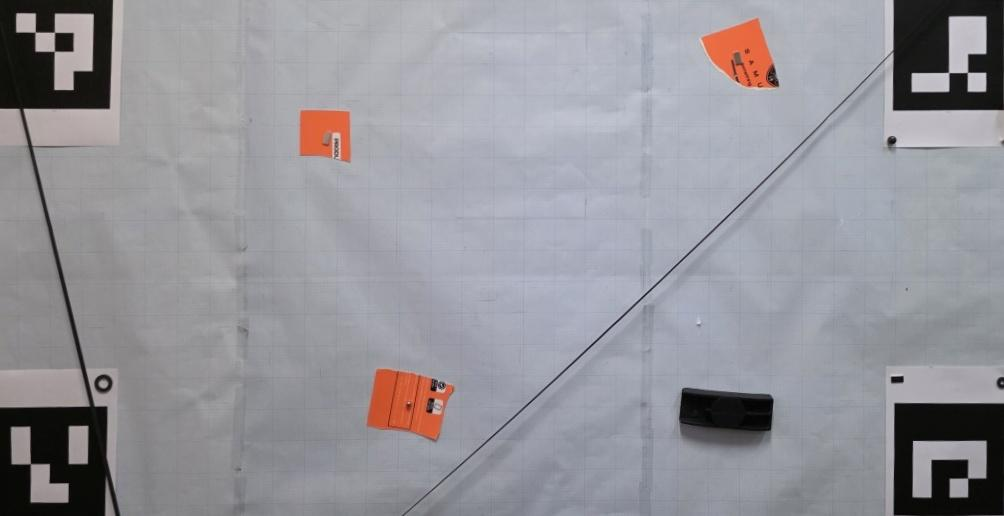obstacle: (366, 367, 454, 441), (701, 17, 779, 91), (680, 388, 773, 434), (300, 110, 351, 161)
